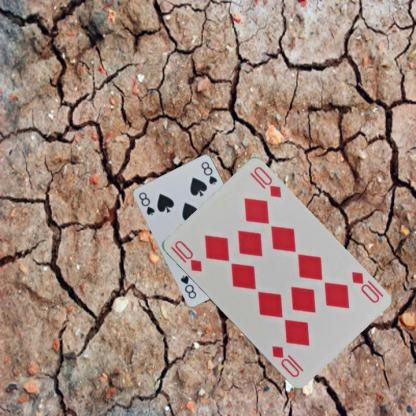10d: (167, 238, 202, 274), (349, 269, 380, 304)
8s: (136, 190, 156, 216)
